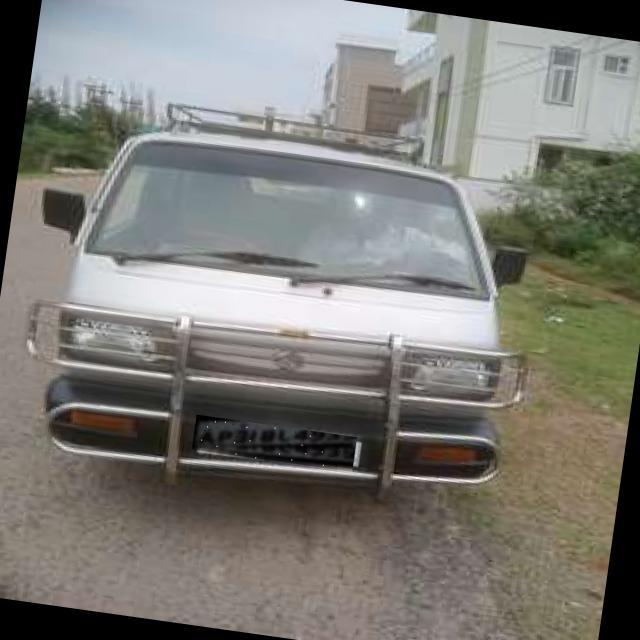Plate: (193, 417, 358, 475)
